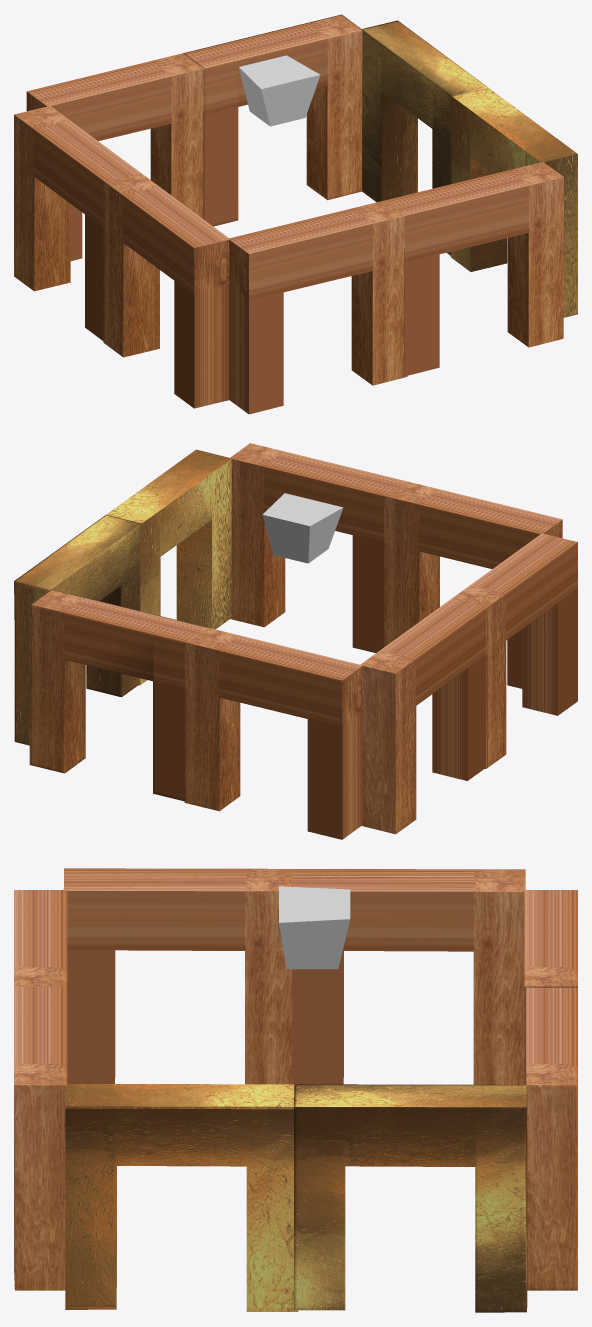
File: arche1.glb
3 renders of one model, top to bottom at view 1: azimuth 30°, elevation 25°; view 2: azimuth 150°, elevation 25°; view 3: azimuth 270°, elevation 25°, orthographic. The views are drawn at different scales.
Parts seen in each view (by area): view 1: Cube.005, Cube.009, Cube.006, Cube.002, Cube.010, Cube, Cube.008, Cube.007, Cube.011; view 2: Cube, Cube.010, Cube.002, Cube.006, Cube.009, Cube.005, Cube.007, Cube.008, Cube.011; view 3: Cube.008, Cube.007, Cube.009, Cube.010, Cube.006, Cube.002, Cube.011, Cube.005, Cube.
Part boxes in pixels (box(x1,y1,x2,y2)): Cube.005: box(228, 200, 407, 414); Cube.009: box(103, 173, 229, 408); Cube.006: box(384, 162, 563, 376); Cube.002: box(183, 14, 362, 226); Cube.010: box(14, 106, 140, 340); Cube: box(26, 53, 203, 261); Cube.008: box(362, 20, 488, 255); Cube.007: box(450, 88, 577, 317); Cube.011: box(239, 55, 320, 126); Cube: box(184, 628, 362, 839); Cube.010: box(360, 598, 487, 834); Cube.002: box(29, 589, 207, 801); Cube.006: box(230, 443, 407, 652); Cube.009: box(452, 533, 577, 768); Cube.005: box(384, 481, 562, 688); Cube.007: box(106, 449, 231, 685); Cube.008: box(14, 515, 141, 745); Cube.011: box(262, 493, 343, 563); Cube.008: box(294, 1084, 527, 1312); Cube.007: box(65, 1083, 298, 1311); Cube.009: box(63, 868, 292, 1084); Cube.010: box(292, 869, 525, 1084); Cube.006: box(14, 986, 67, 1290); Cube.002: box(524, 986, 577, 1290); Cube.011: box(279, 886, 350, 969); Cube.005: box(14, 890, 67, 986); Cube: box(524, 890, 577, 986).
Size of what is drawn, in the model's own units: 21.86 by 12.01 by 21.79.
2 materials, 2 textured.
